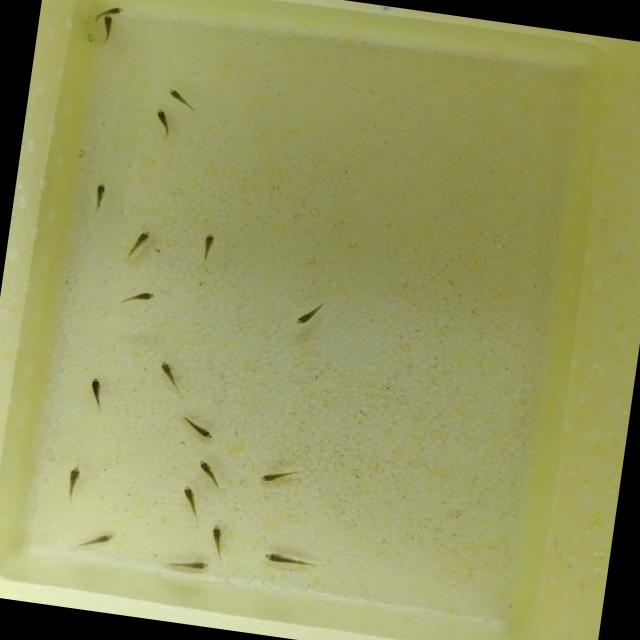fingerling: (65, 525, 120, 558), (256, 547, 327, 572), (252, 460, 310, 490), (171, 412, 223, 444), (118, 226, 156, 269), (58, 462, 90, 508), (290, 296, 328, 334), (158, 553, 213, 576), (81, 374, 111, 414), (153, 358, 184, 394), (194, 230, 223, 268), (203, 520, 230, 560), (113, 286, 158, 310), (148, 107, 178, 142), (191, 456, 225, 486), (177, 482, 202, 522), (163, 86, 200, 111), (89, 179, 112, 217), (98, 16, 116, 46), (96, 3, 130, 18)
